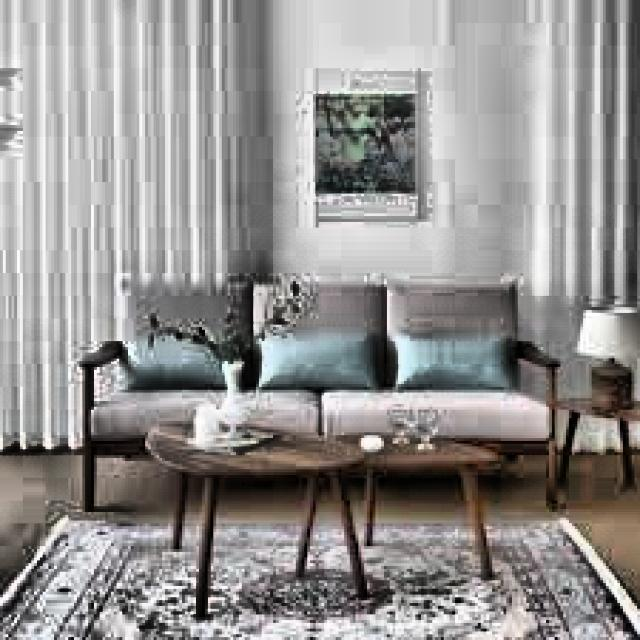sofa: (94, 273, 552, 449)
